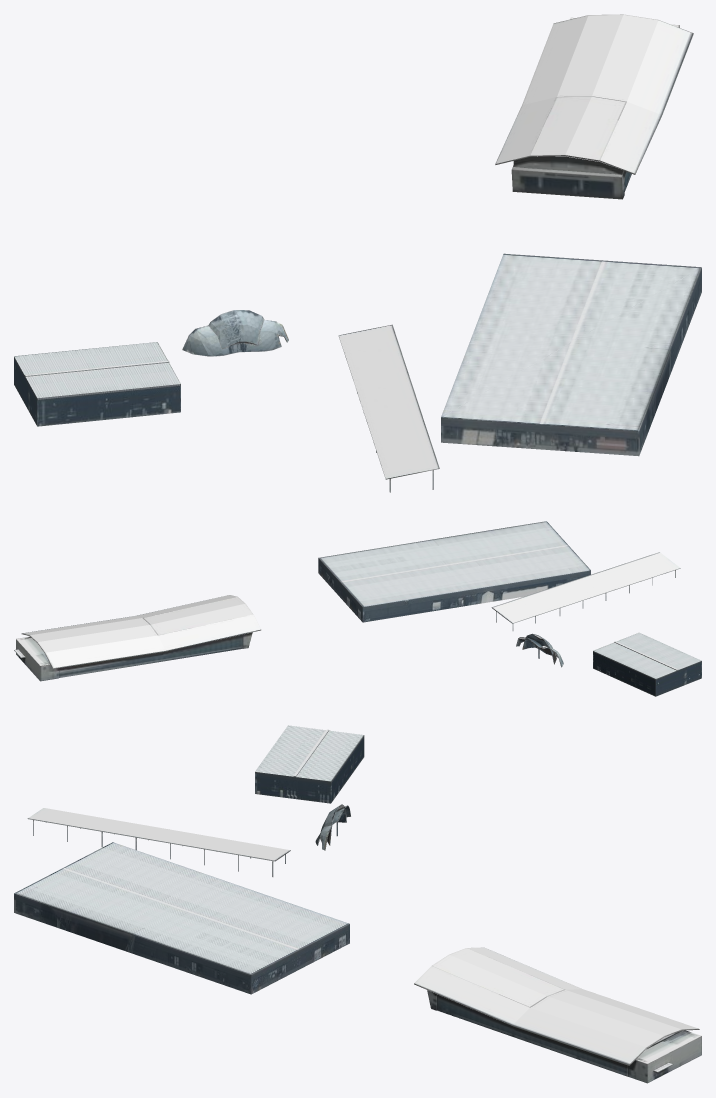
The picture shows the model from 3 angles, top to bottom: view 1: azimuth 30°, elevation 25°; view 2: azimuth 150°, elevation 25°; view 3: azimuth 270°, elevation 25°; orthographic projection. The views are drawn at different scales.
Parts seen in each view (by area): view 1: Buildings_建物パビリオン; view 2: Buildings_建物パビリオン; view 3: Buildings_建物パビリオン.
Part boxes in pixels (<box>): Buildings_建物パビリオン: <box>14,14,701,492</box>; Buildings_建物パビリオン: <box>14,521,701,696</box>; Buildings_建物パビリオン: <box>14,725,701,1083</box>.
Bounding box in the file's own units: 189 × 9.76 × 165.
Materials: 6 (5 with a texture image).
